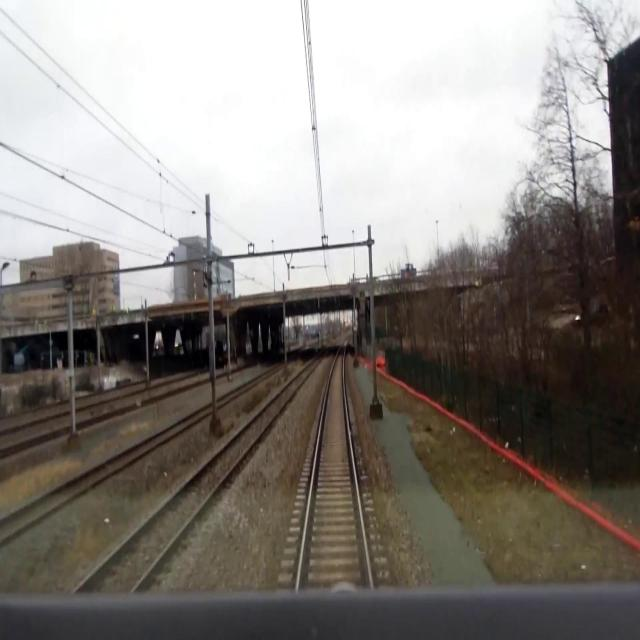rail-track: (28, 364, 312, 639), (0, 411, 205, 537), (292, 342, 377, 639)
